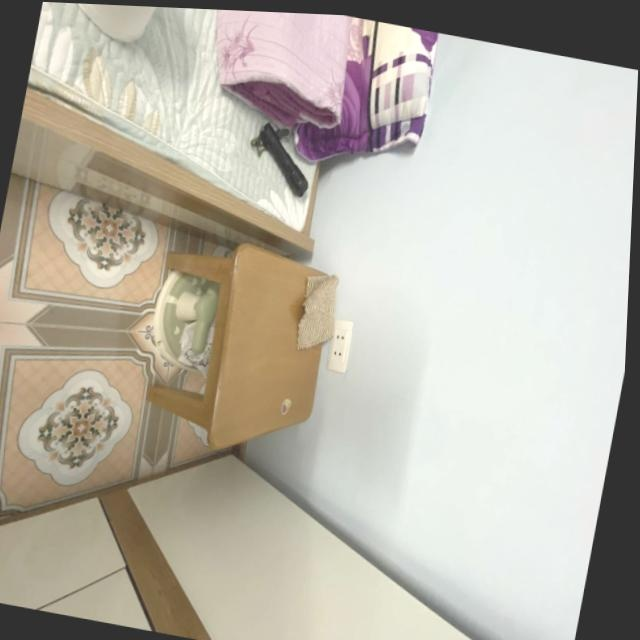outlet: (324, 318, 355, 373)
